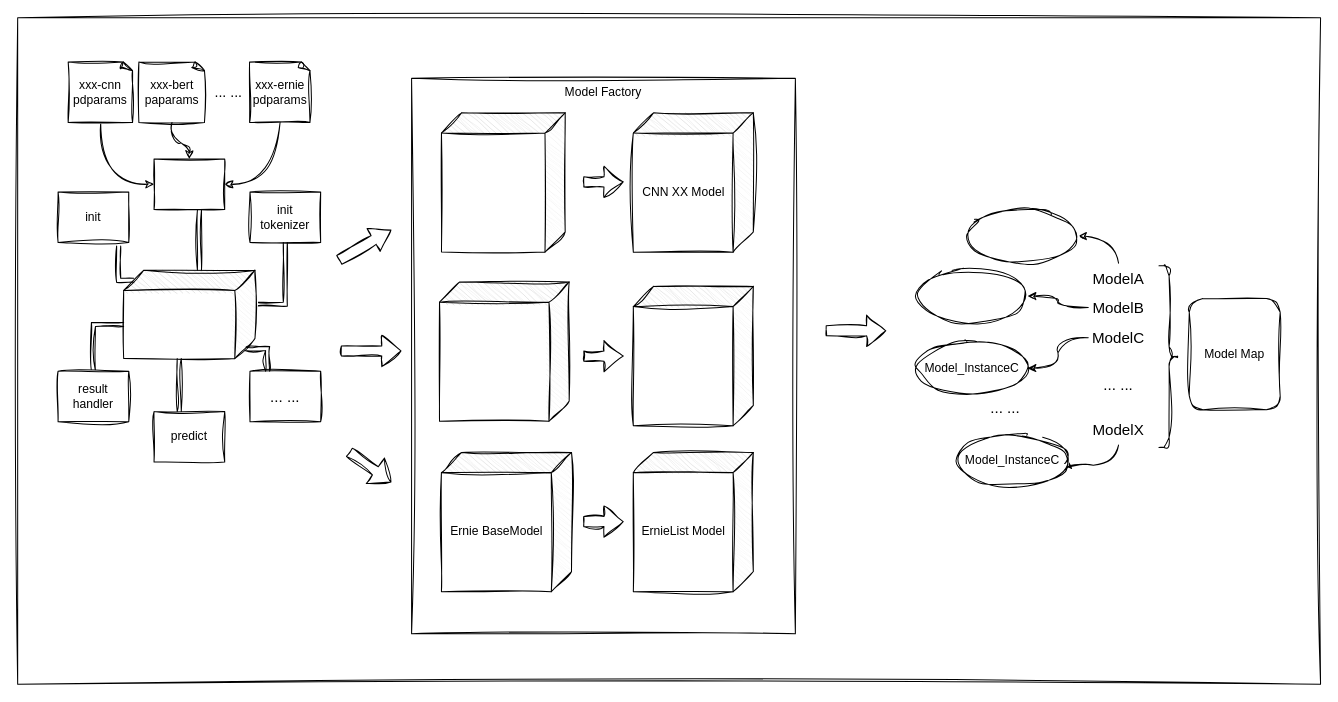
This 1338x702 diagram has some shape labels left out. Here are the shapes that lost their labels. From the top down, the centre of each, then its label:
At pixel 189 184: "load pdparams".
At pixel 502 182: "CNN BaseModel".
At pixel 1022 236: "Model_InstanceA".
At pixel 189 314: "BaseModel".
At pixel 972 296: "Model_InstanceB".
At pixel 504 351: "BERT BaseModel".
At pixel 692 355: "BERT XX Model".
